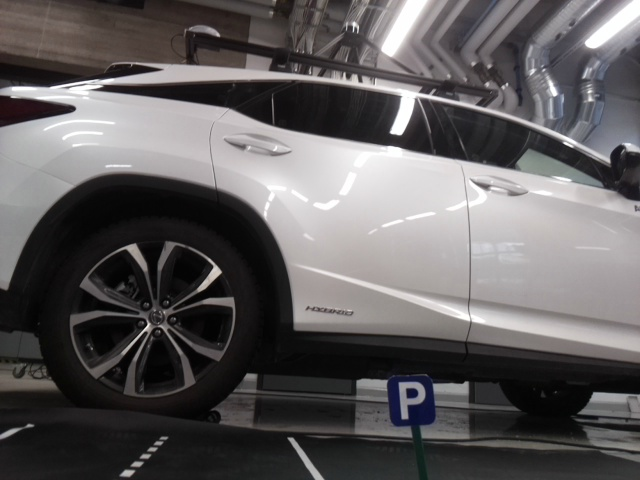Parking: (386, 374, 435, 425)
